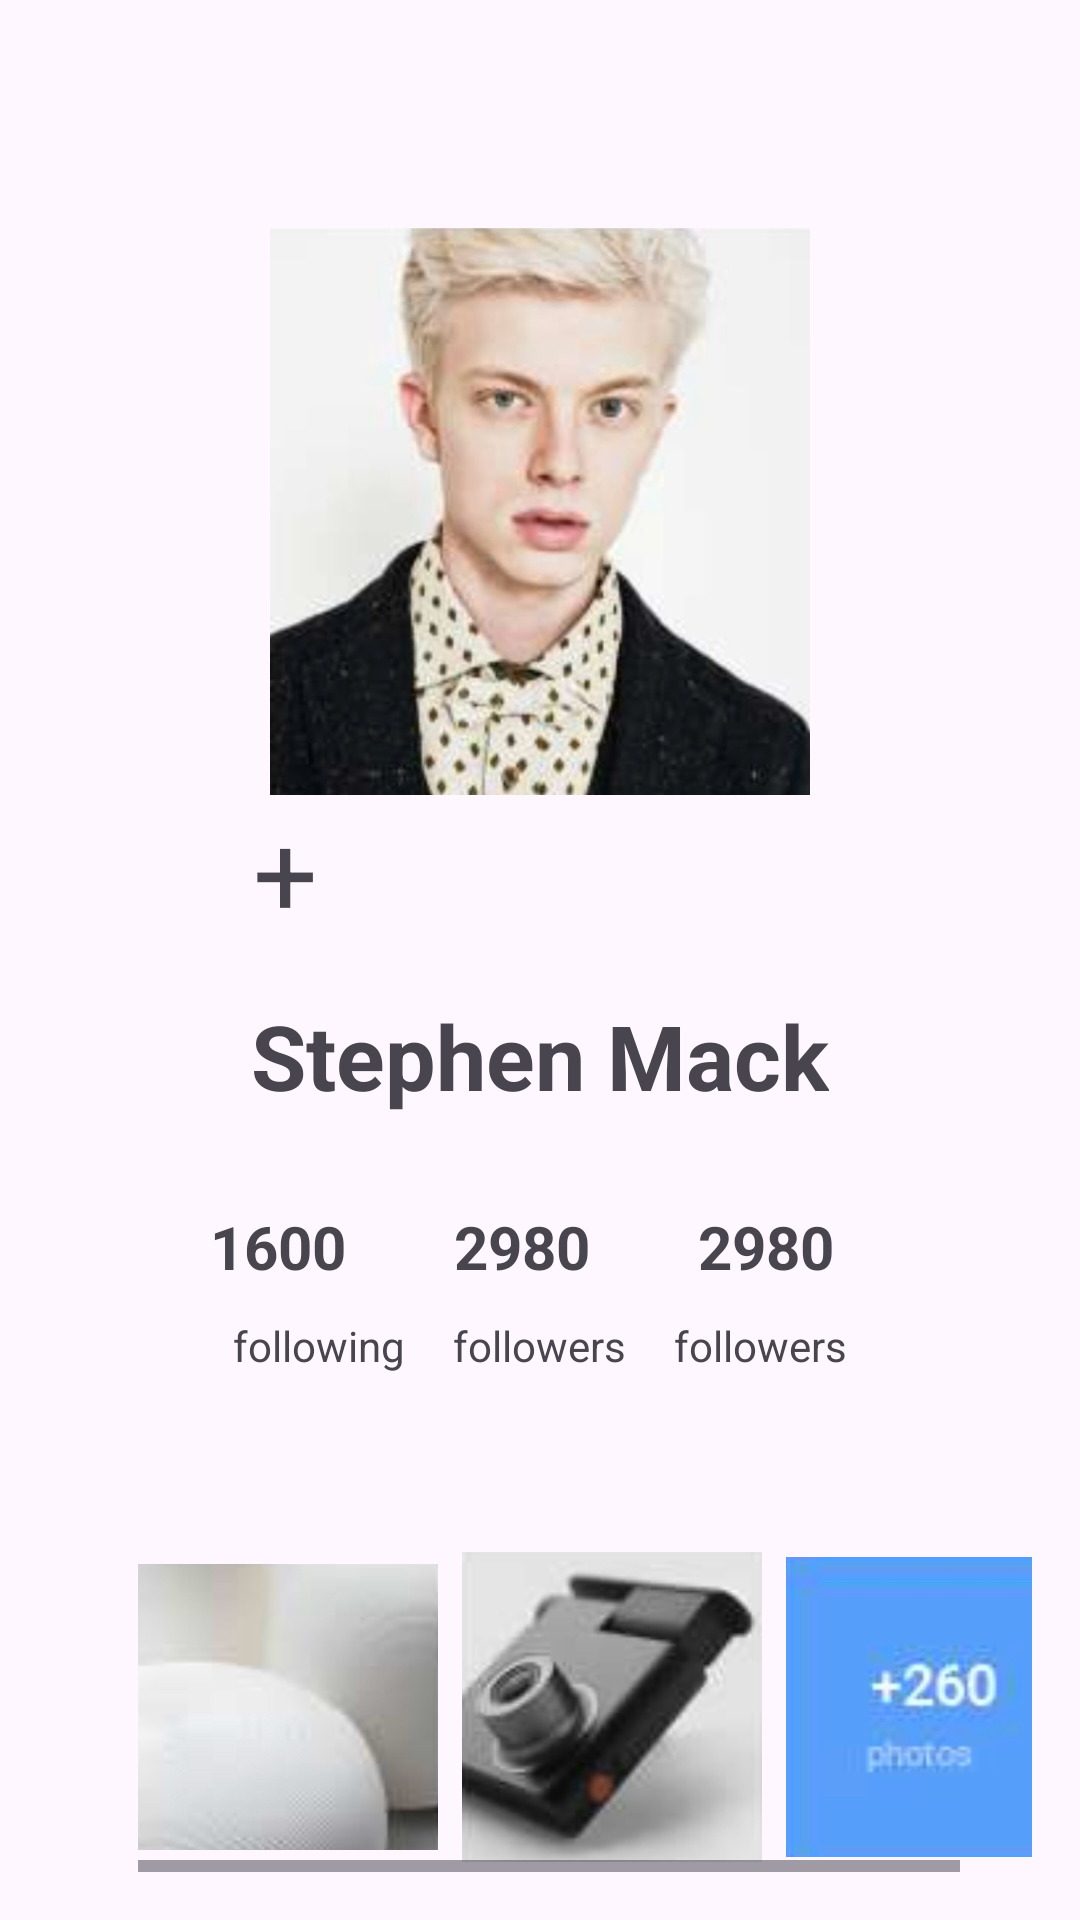

Icon click points for this 1080×1920 phone screenshot, format [x,y]:
camerablack: [612,1712]
whiteee: [288,1707]
